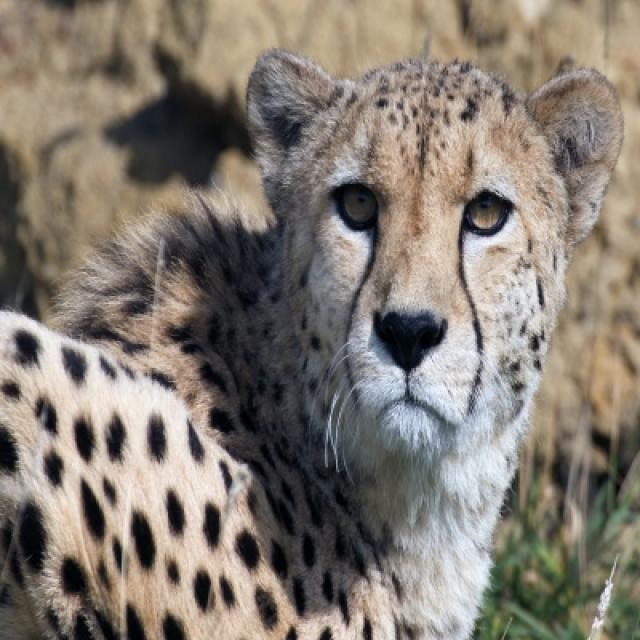Cheetah: (0, 50, 622, 638)
